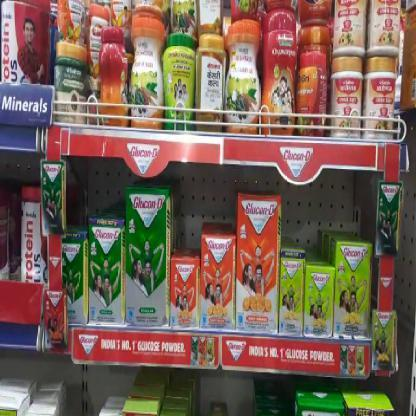Glucon D Nimbu Pani 1-KG: (334, 239, 371, 334)
